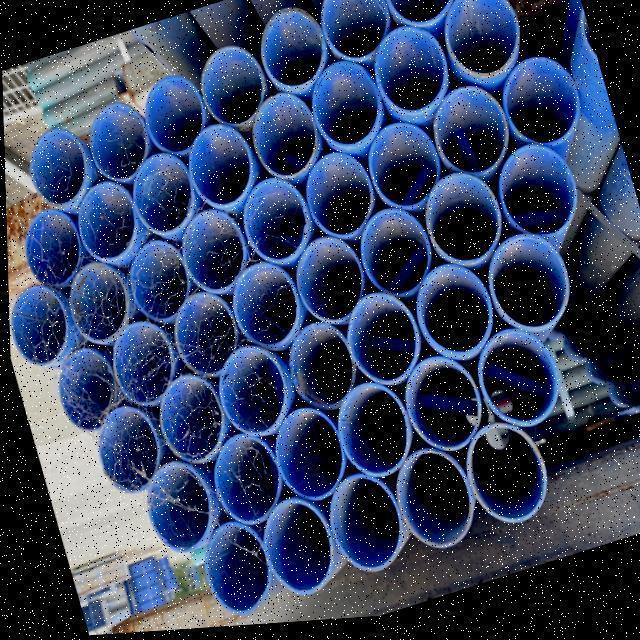pipe: (460, 431, 546, 531), (388, 454, 472, 555), (482, 239, 568, 336), (319, 477, 404, 575), (474, 333, 555, 435), (491, 149, 573, 248), (257, 499, 336, 599), (351, 126, 442, 212), (189, 523, 271, 617), (418, 178, 498, 271), (335, 384, 411, 481), (413, 270, 493, 362), (268, 407, 345, 502), (404, 363, 481, 456), (495, 65, 574, 155), (351, 213, 430, 300), (430, 93, 507, 182), (346, 298, 420, 390), (369, 32, 444, 122), (213, 346, 287, 437), (172, 290, 246, 381), (139, 462, 209, 557), (219, 267, 296, 351), (285, 326, 357, 415), (235, 178, 307, 265), (155, 375, 223, 467), (438, 0, 515, 81), (305, 64, 377, 150), (287, 236, 358, 323), (210, 437, 280, 525), (303, 152, 372, 241), (93, 405, 157, 496), (251, 95, 317, 182), (175, 211, 244, 294), (184, 124, 249, 211), (59, 261, 126, 344), (108, 323, 171, 409), (125, 153, 188, 239), (259, 11, 325, 93), (54, 346, 117, 430), (68, 178, 131, 262), (199, 49, 264, 129), (124, 239, 188, 320), (21, 208, 80, 292), (7, 280, 65, 365), (86, 101, 146, 183), (142, 76, 202, 158), (318, 0, 390, 62), (26, 128, 81, 207), (382, 0, 453, 32)
